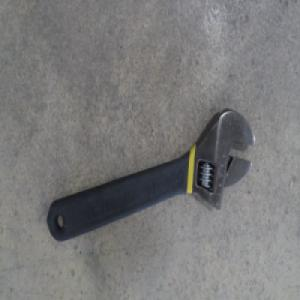AdjustableWrench: (46, 109, 253, 244)
